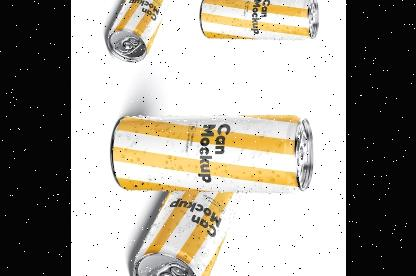Can: (111, 115, 312, 193), (131, 191, 239, 276), (199, 0, 318, 41), (106, 0, 169, 62)
